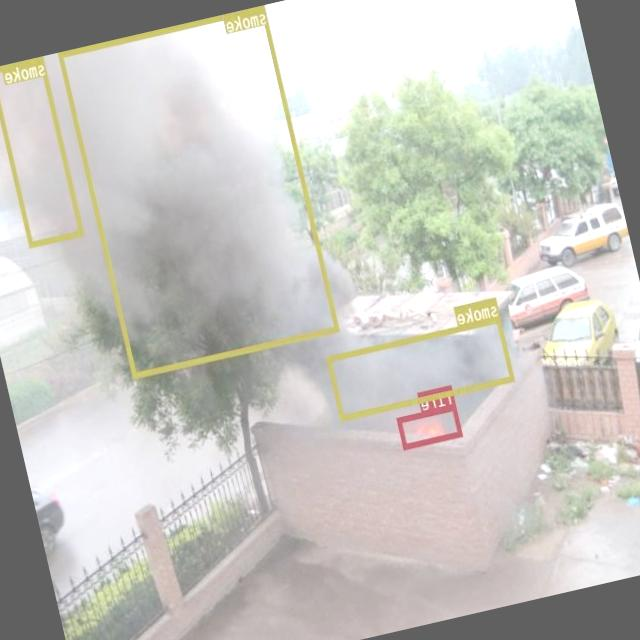fire: (397, 403, 463, 448)
smoke: (59, 4, 340, 376), (326, 314, 515, 420), (0, 55, 84, 245)
